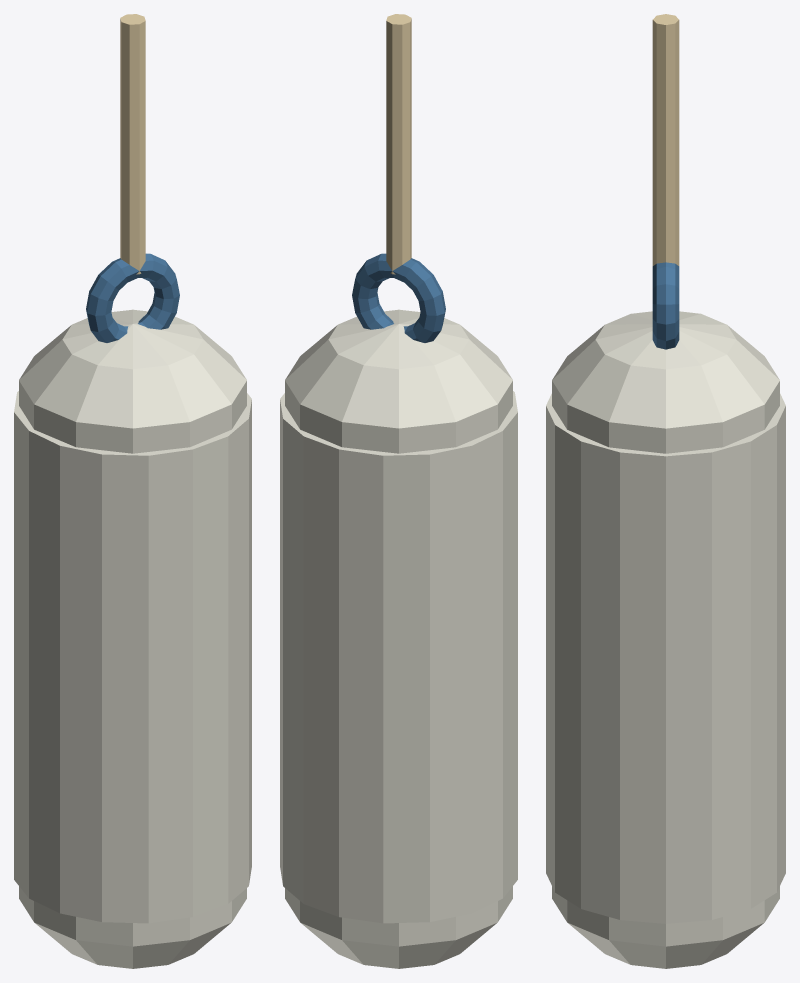
The model's file is hanging_marine_fender.glb.
3 views of the same model, side by side, from view 1: azimuth 30°, elevation 25°; view 2: azimuth 150°, elevation 25°; view 3: azimuth 270°, elevation 25° (orthographic).
Visible parts, largest first — view 1: fender_body, fender_end (×2), hanging_rope, fender_eye; view 2: fender_body, fender_end (×2), hanging_rope, fender_eye; view 3: fender_body, fender_end (×2), hanging_rope, fender_eye.
Part boxes in pixels (x1=…): fender_body: x1=14, y1=391, x2=251, y2=923; fender_end (×2): x1=19, y1=309, x2=246, y2=968; hanging_rope: x1=120, y1=14, x2=145, y2=274; fender_eye: x1=86, y1=253, x2=179, y2=342; fender_body: x1=280, y1=391, x2=517, y2=923; fender_end (×2): x1=285, y1=309, x2=512, y2=968; hanging_rope: x1=386, y1=14, x2=411, y2=274; fender_eye: x1=352, y1=253, x2=445, y2=342; fender_body: x1=546, y1=393, x2=785, y2=923; fender_end (×2): x1=552, y1=311, x2=779, y2=968; hanging_rope: x1=652, y1=14, x2=679, y2=265; fender_eye: x1=652, y1=262, x2=679, y2=349.
Size of the model in its own units: 0.2 by 0.86 by 0.2.
